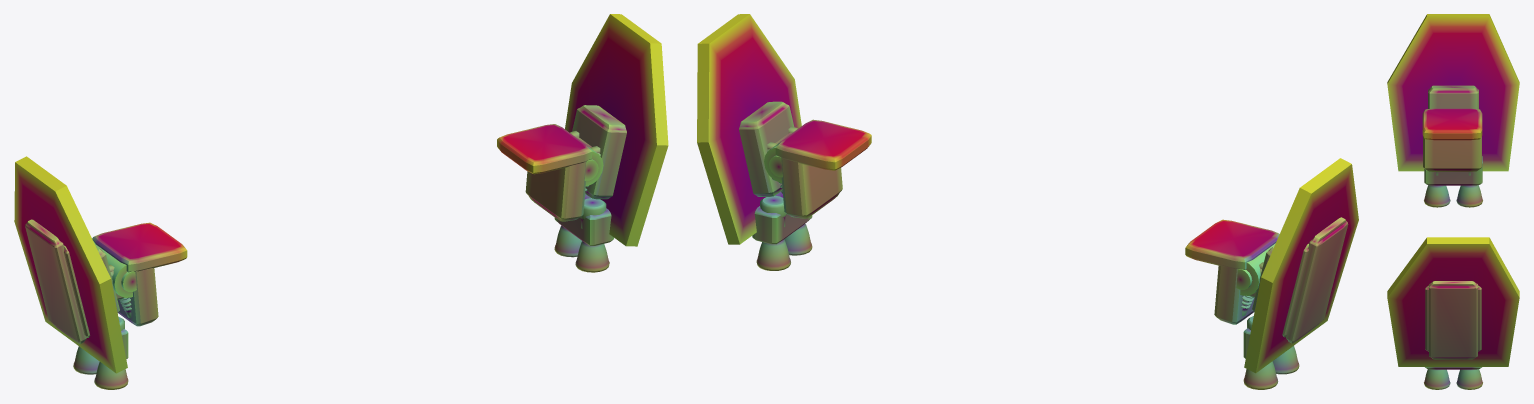
Rendered from llm_gen_shoulder_pods_037_2bd246.glb.
3 views of the same model, side by side, from view 1: azimuth 30°, elevation 25°; view 2: azimuth 150°, elevation 25°; view 3: azimuth 270°, elevation 25° (orthographic). The views are drawn at different scales.
Parts seen in each view (by area): view 1: binder_shield_wing_2_barrel_metal_r, binder_shield_wing_2_barrel_metal_l, adapter_shoulder_yoke_r, adapter_shoulder_yoke_l, binder_trim_blue_4_cobalt_anodized_l, adapter_sub_wing_clevis_dark_1_adapter_dark_r, adapter_sub_exhaust_pod_dark_5_adapter_dark_r, binder_vernier_b_7_vernier_bell_vernier_r, binder_vernier_b_7_vernier_bell_vernier_l, binder_vernier_a_6_vernier_bell_vernier_r; view 2: binder_shield_wing_2_barrel_metal_r, binder_shield_wing_2_barrel_metal_l, adapter_shoulder_yoke_r, adapter_shoulder_yoke_l, binder_trim_blue_4_cobalt_anodized_l, adapter_sub_wing_clevis_dark_1_adapter_dark_r, adapter_sub_exhaust_pod_dark_5_adapter_dark_r, binder_vernier_a_6_vernier_bell_vernier_r, binder_vernier_a_6_vernier_bell_vernier_l, binder_vernier_b_7_vernier_bell_vernier_r, adapter_sub_trim_clamp_dark_3_adapter_dark_l; view 3: binder_shield_wing_2_barrel_metal_l, binder_shield_wing_2_barrel_metal_r, binder_trim_blue_4_cobalt_anodized_r, adapter_shoulder_yoke_l, adapter_sub_wing_clevis_dark_1_adapter_dark_l, adapter_sub_exhaust_pod_dark_5_adapter_dark_l, binder_vernier_a_6_vernier_bell_vernier_l, binder_vernier_b_7_vernier_bell_vernier_l, adapter_sub_trim_clamp_dark_3_adapter_dark_r, binder_vernier_a_6_vernier_bell_vernier_r, binder_vernier_b_7_vernier_bell_vernier_r, adapter_sub_exhaust_pod_dark_5_adapter_dark_r.
Part boxes in pixels (x1,y1,x2,y2): binder_shield_wing_2_barrel_metal_r: (565, 14, 668, 246); binder_shield_wing_2_barrel_metal_l: (14, 156, 127, 373); adapter_shoulder_yoke_r: (497, 124, 603, 221); adapter_shoulder_yoke_l: (92, 222, 187, 326); binder_trim_blue_4_cobalt_anodized_l: (25, 219, 86, 343); adapter_sub_wing_clevis_dark_1_adapter_dark_r: (572, 105, 626, 199); adapter_sub_exhaust_pod_dark_5_adapter_dark_r: (554, 194, 613, 245); binder_vernier_b_7_vernier_bell_vernier_r: (575, 241, 609, 272); binder_vernier_b_7_vernier_bell_vernier_l: (94, 362, 128, 389); binder_vernier_a_6_vernier_bell_vernier_r: (554, 225, 581, 257); binder_shield_wing_2_barrel_metal_r: (697, 14, 801, 244); binder_shield_wing_2_barrel_metal_l: (1244, 158, 1358, 373); adapter_shoulder_yoke_r: (764, 119, 871, 218); adapter_shoulder_yoke_l: (1185, 219, 1279, 324); binder_trim_blue_4_cobalt_anodized_l: (1286, 217, 1348, 343); adapter_sub_wing_clevis_dark_1_adapter_dark_r: (739, 101, 794, 196); adapter_sub_exhaust_pod_dark_5_adapter_dark_r: (752, 191, 812, 244); binder_vernier_a_6_vernier_bell_vernier_r: (756, 239, 790, 270); binder_vernier_a_6_vernier_bell_vernier_l: (1243, 361, 1278, 389); binder_vernier_b_7_vernier_bell_vernier_r: (784, 224, 812, 255); adapter_sub_trim_clamp_dark_3_adapter_dark_l: (1282, 243, 1308, 337); binder_shield_wing_2_barrel_metal_l: (1387, 14, 1519, 171); binder_shield_wing_2_barrel_metal_r: (1387, 237, 1519, 366); binder_trim_blue_4_cobalt_anodized_r: (1429, 281, 1477, 359); adapter_shoulder_yoke_l: (1422, 108, 1482, 171); adapter_sub_wing_clevis_dark_1_adapter_dark_l: (1428, 85, 1478, 109); adapter_sub_exhaust_pod_dark_5_adapter_dark_l: (1424, 156, 1482, 185); binder_vernier_a_6_vernier_bell_vernier_l: (1456, 185, 1482, 207); binder_vernier_b_7_vernier_bell_vernier_l: (1424, 185, 1450, 207); adapter_sub_trim_clamp_dark_3_adapter_dark_r: (1425, 285, 1481, 351); binder_vernier_a_6_vernier_bell_vernier_r: (1456, 369, 1482, 389); binder_vernier_b_7_vernier_bell_vernier_r: (1424, 369, 1450, 389); adapter_sub_exhaust_pod_dark_5_adapter_dark_r: (1425, 367, 1481, 369).
Bounding box in the file's own units: 118 × 39.91 × 28.7.
